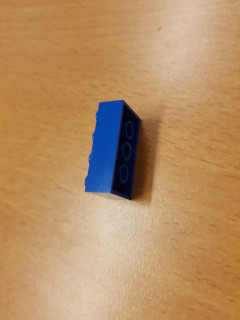2x4 blue: (84, 99, 146, 203)
